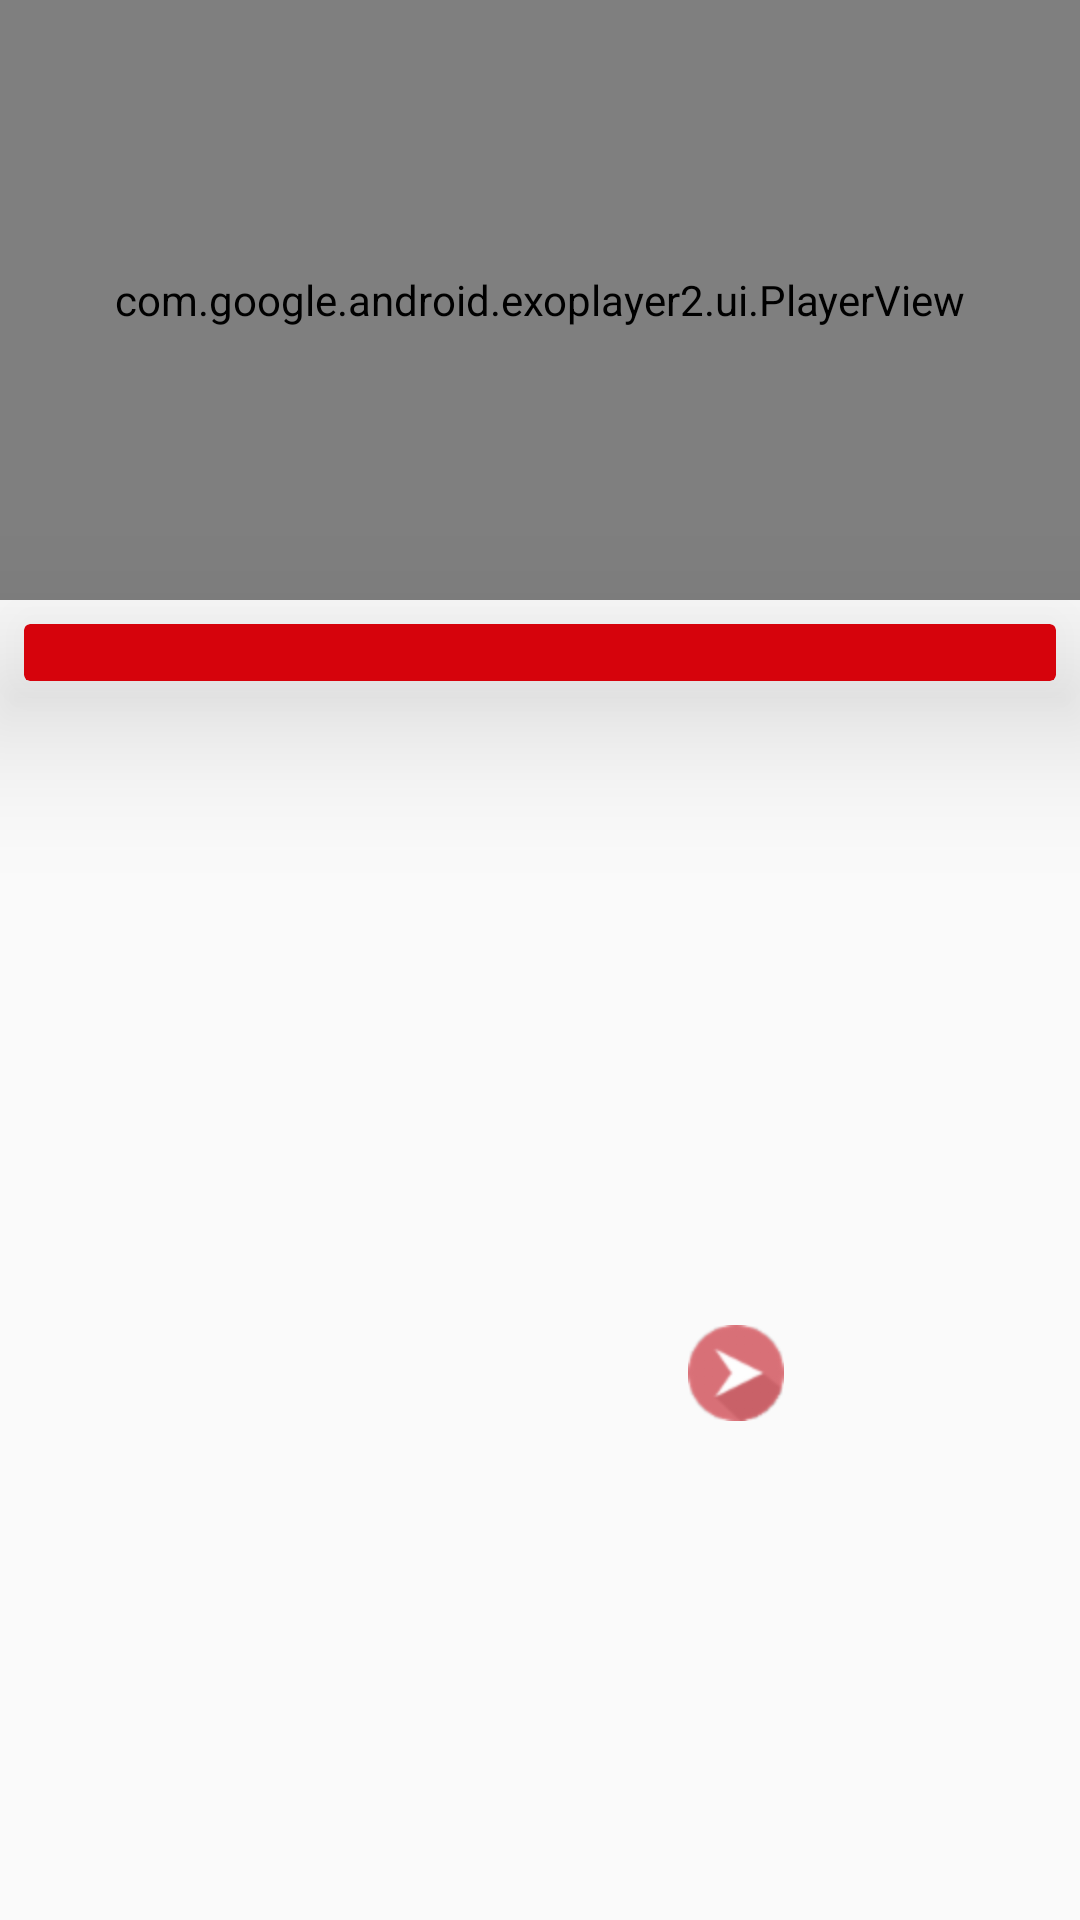

Screen size 1080*1920. Icon name, then its center in pixels as [x,y]:
next: [736,1373]
